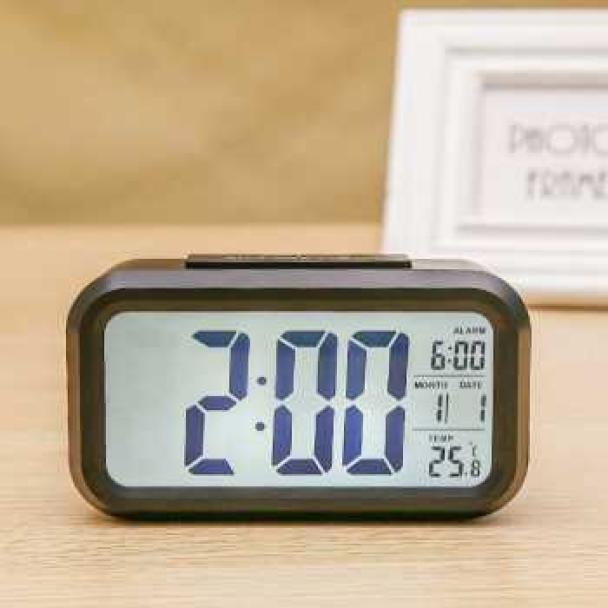Jam: (68, 266, 527, 507)
